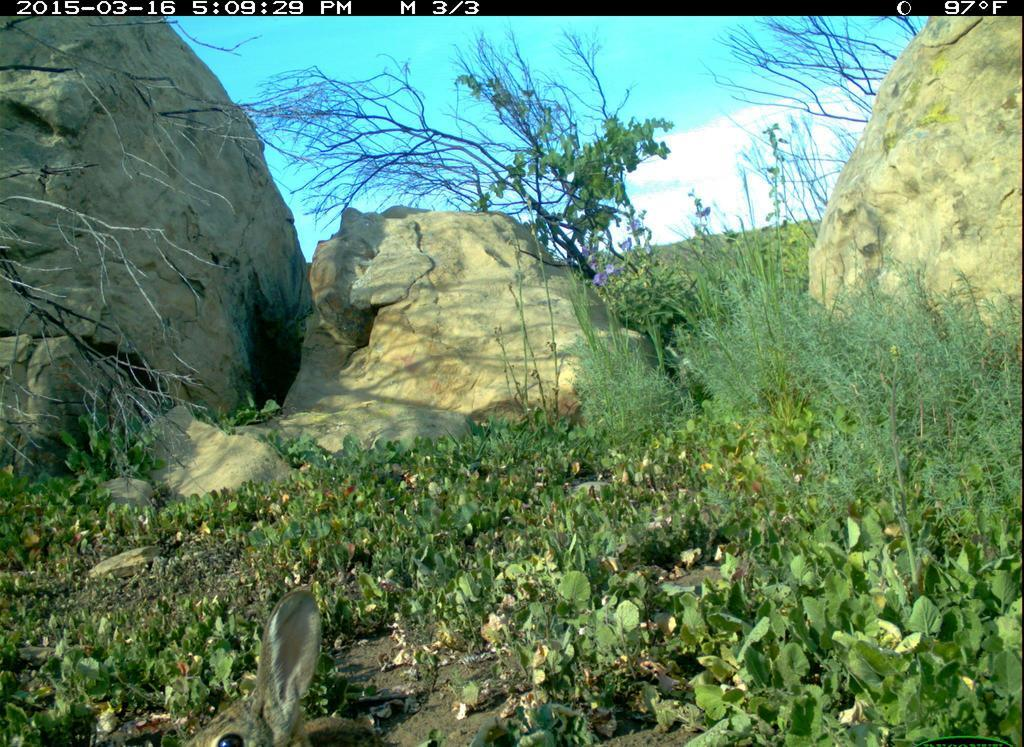rabbit: (168, 580, 345, 747)
